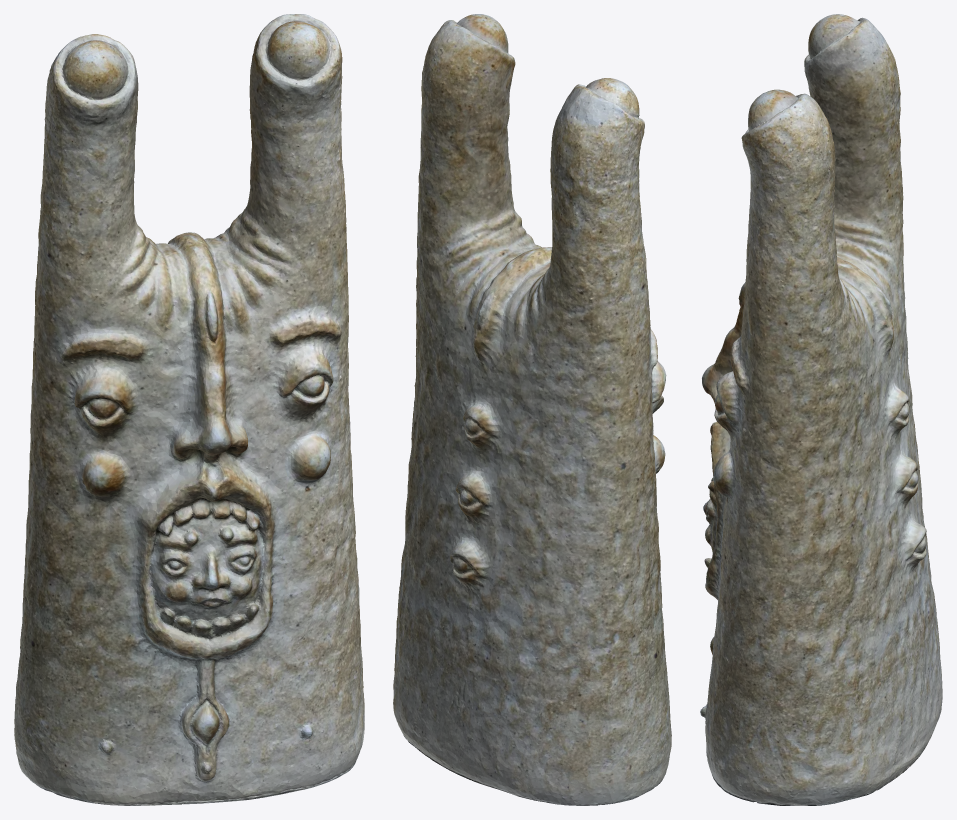
Rendered from brangulio.glb.
3 views of the same model, side by side, from view 1: azimuth 30°, elevation 25°; view 2: azimuth 150°, elevation 25°; view 3: azimuth 270°, elevation 25° (orthographic). The views are drawn at different scales.
Size of the model in its own units: 0.5852 by 1.38 by 0.4402.
1 material, 1 textured.
